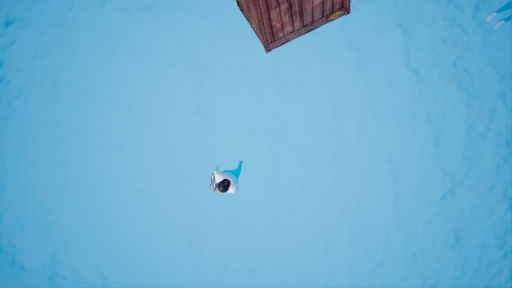person: (201, 163, 251, 201)
